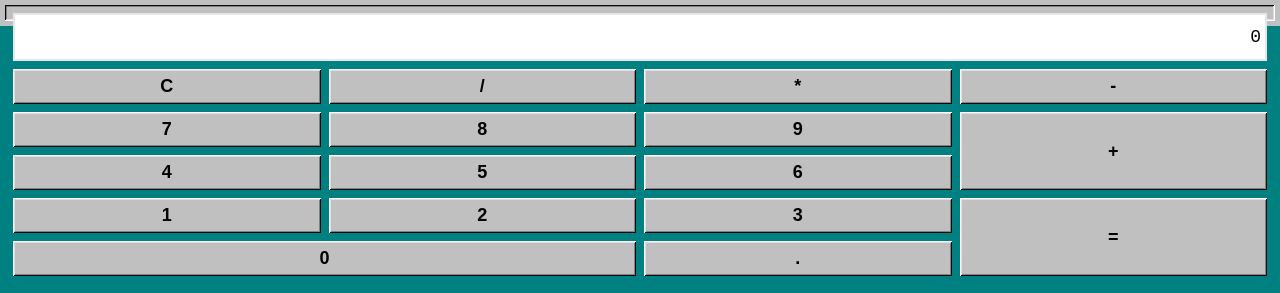
Test: Calculator › chains operations
Step 1. Click the button "2" → (482,216), box [328,198,636,233]
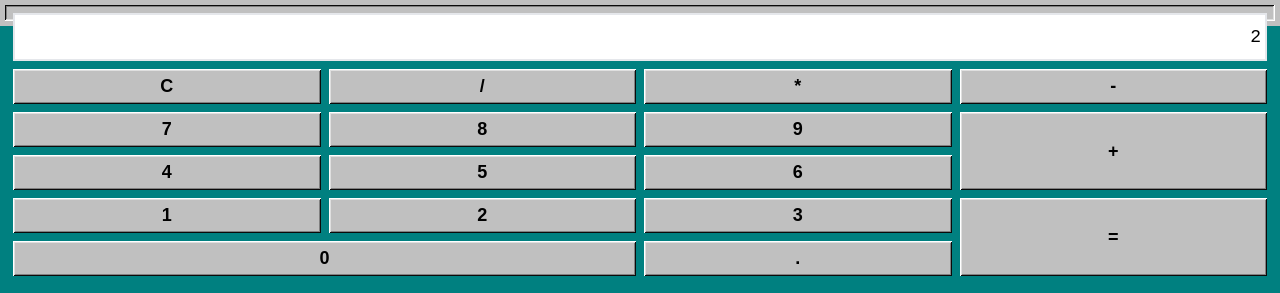
Step 2. Click the button "+" → (1113,151), box [960,112,1267,190]
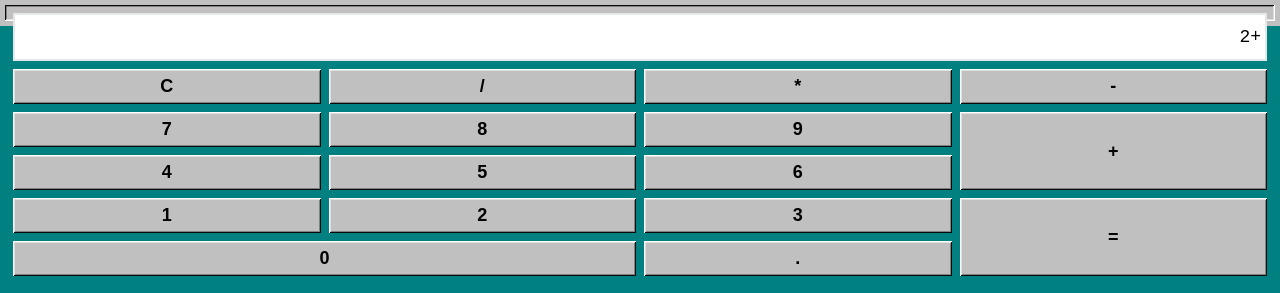
Step 3. Click the button "3" → (798,216), box [644,198,952,233]
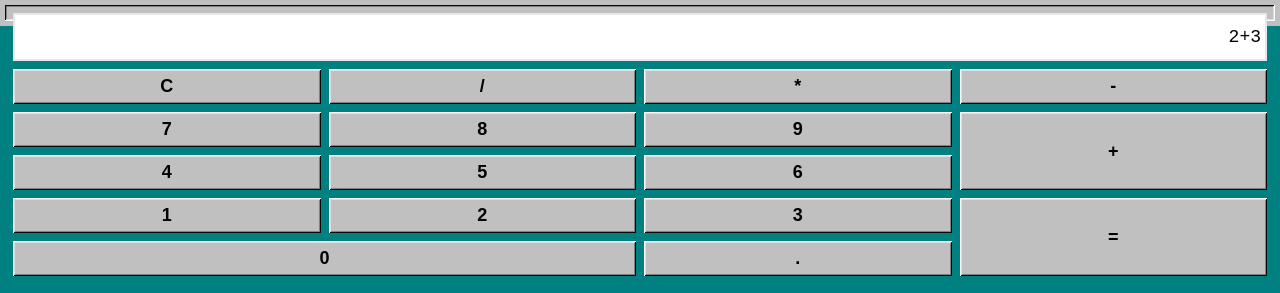
Step 4. Click the button "*" → (798,86), box [644,69,952,104]
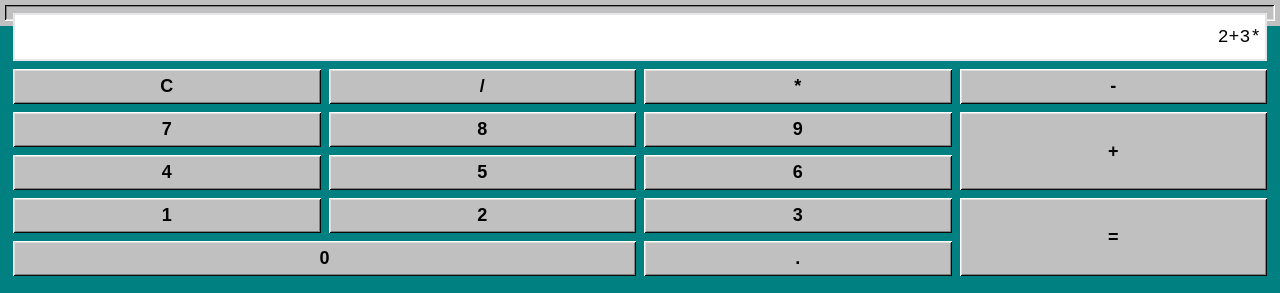
expect the text "2+3*" is shown: met, box [13,13,1267,61]
Step 5. Click the button "4" → (167,172), box [13,155,320,190]
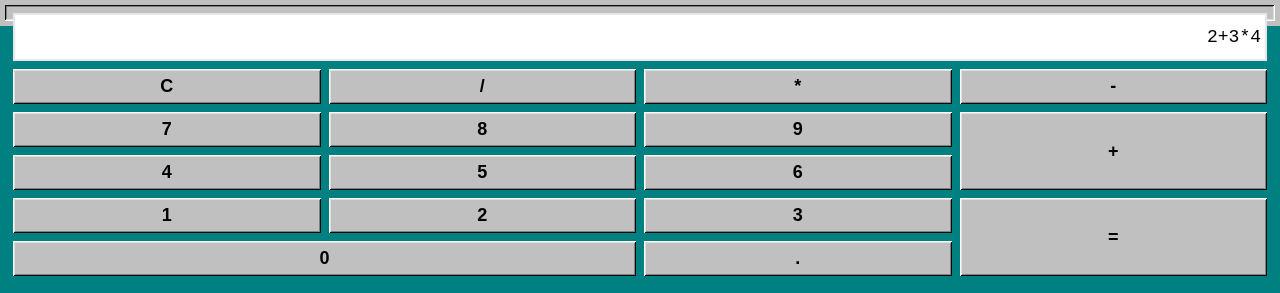
Step 6. Click the button "=" → (1113,237), box [960,198,1267,276]
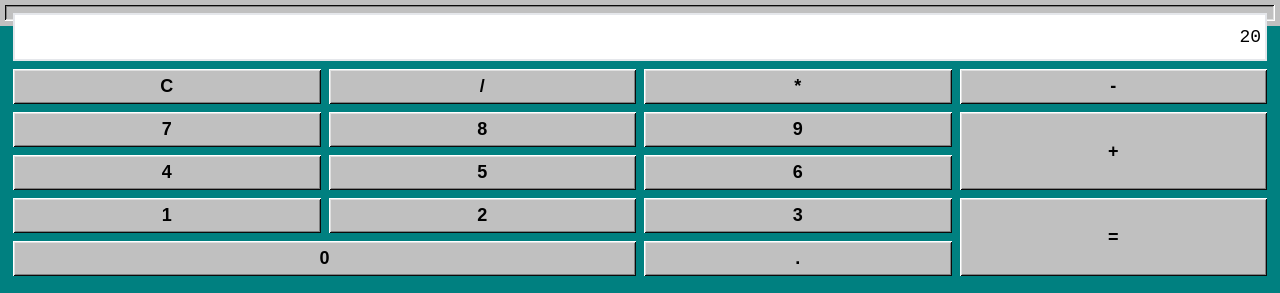
expect the text "20" is shown: met, box [13,13,1267,61]
